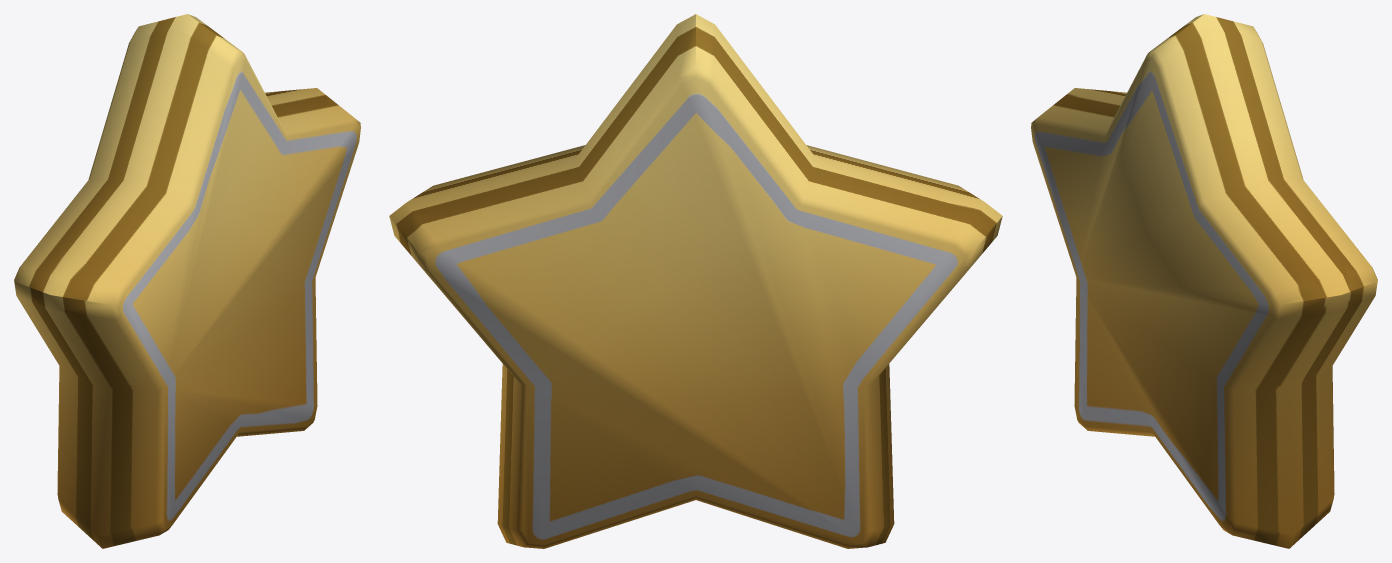
File: star.fbx
3 renders of one model, left to right at view 1: azimuth 30°, elevation 25°; view 2: azimuth 150°, elevation 25°; view 3: azimuth 270°, elevation 25°, orthographic. The views are drawn at different scales.
Parts seen in each view (by area): view 1: CoinStar; view 2: CoinStar; view 3: CoinStar.
Boxes of the visible parts, x1,y1,x2,y2 form: CoinStar: [14, 14, 360, 548]; CoinStar: [389, 14, 1002, 548]; CoinStar: [1031, 14, 1377, 548].
Bounding box in the file's own units: 804 × 864 × 572.
Materials: 1 (1 with a texture image).
